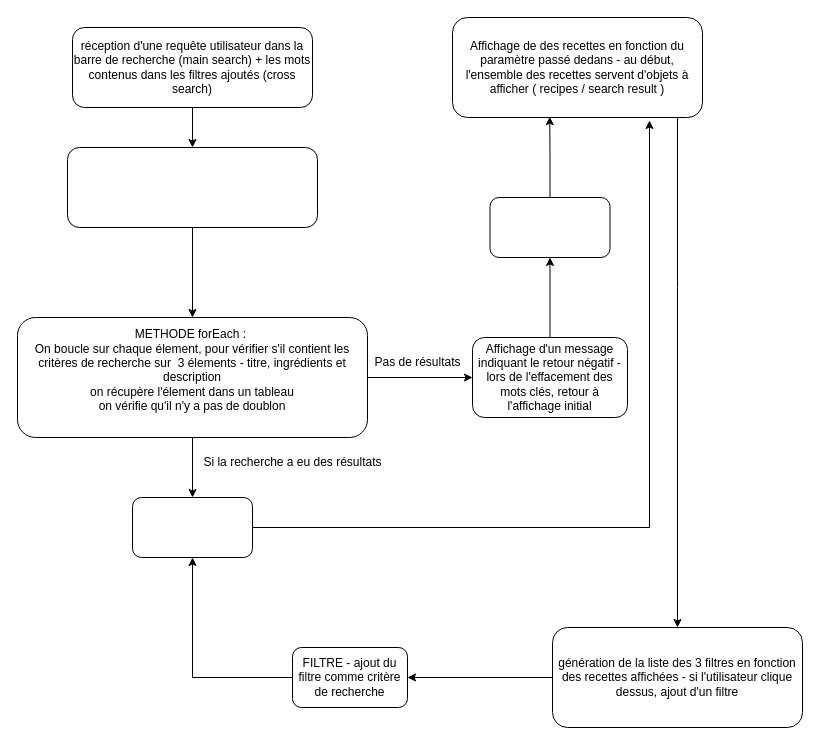
The diagram is 820 pixels wide and 745 high, and some of its shapes have lost their labels. The box of each missing label's shape, as (x1, y1, x2, y2) in pixels:
on récupère cet input dans une variable, en lowerCase: (66, 146, 318, 228)
RECIPES - OBJET INITIAL: (489, 196, 610, 258)
Résultat de la recherche [...]: (132, 496, 252, 558)
